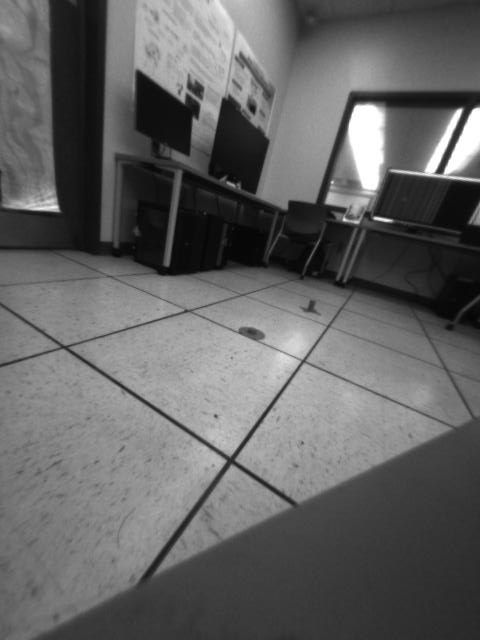X: (299, 297, 320, 315)
